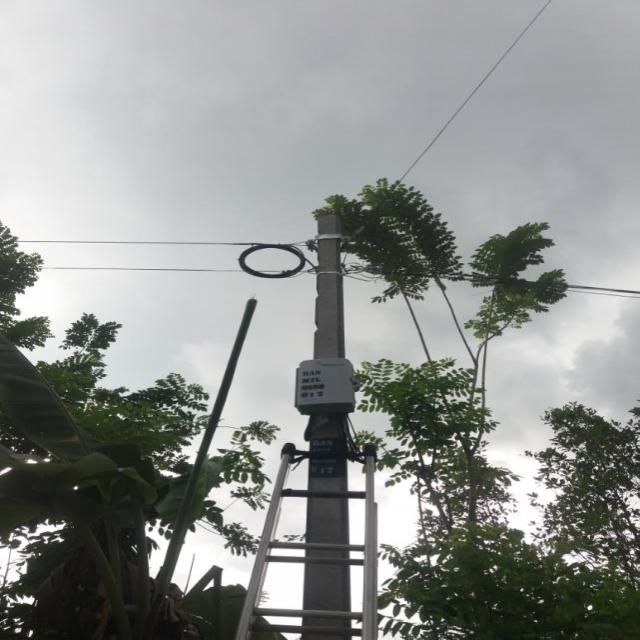light_pole: (299, 205, 354, 640)
